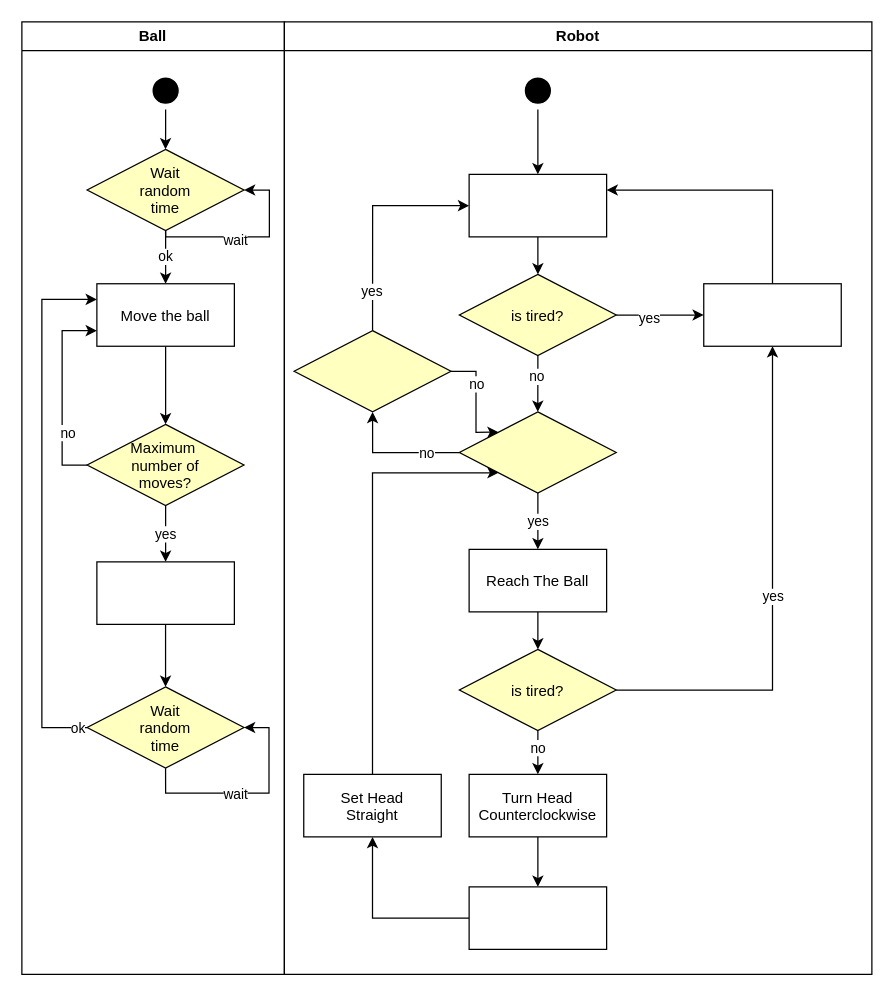
Image size: 894x996. Some labels were removed from this diagram. The shapes that lost their labels are listed below. From the top down, each one's centre as x and y in pixels, then its label:
[537,205]: Move Randomly
[771,314]: Sleep
[372,370]: enought time is passed?
[537,452]: Ball detected?
[165,592]: Hide the ball
[537,917]: Turn Head Clockwise
